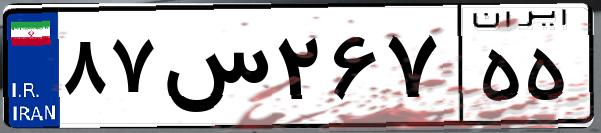2: (270, 28, 330, 110)
5: (475, 38, 525, 113), (525, 38, 570, 115)
6: (330, 28, 385, 110)
7: (385, 28, 445, 110), (110, 28, 158, 98)
8: (57, 26, 110, 100)
س: (158, 20, 270, 120)
